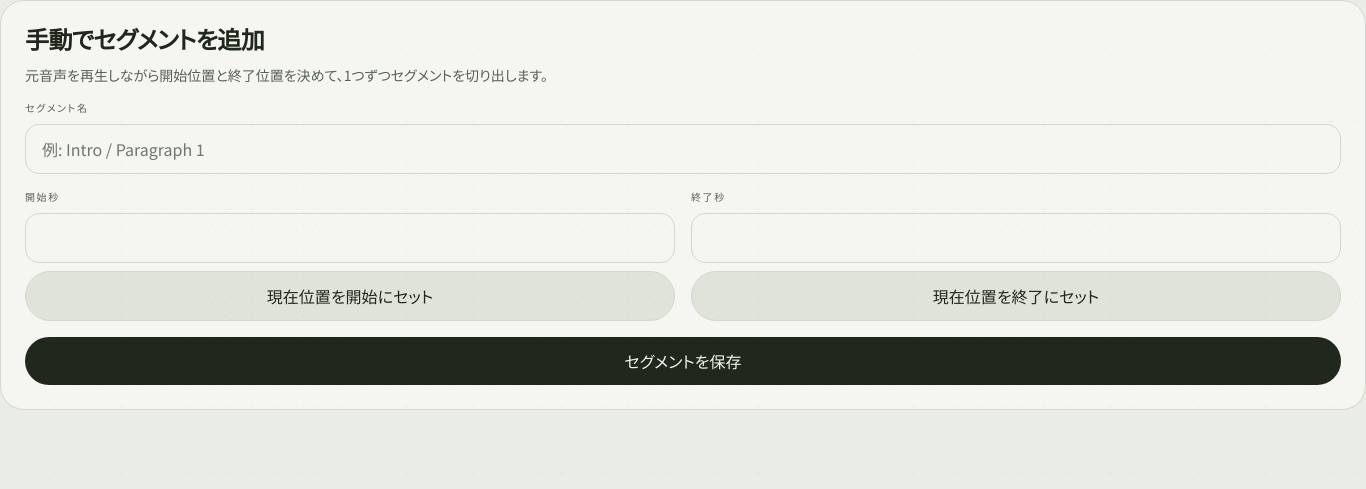
Test: ManualSegmentForm › requires a title before allowing a save attempt
This screenshot has width=1366, height=489.
In the number field labelled "開始秒": coordinates (350, 238) x1=25 y1=213 x2=675 y2=263, type "1.23"
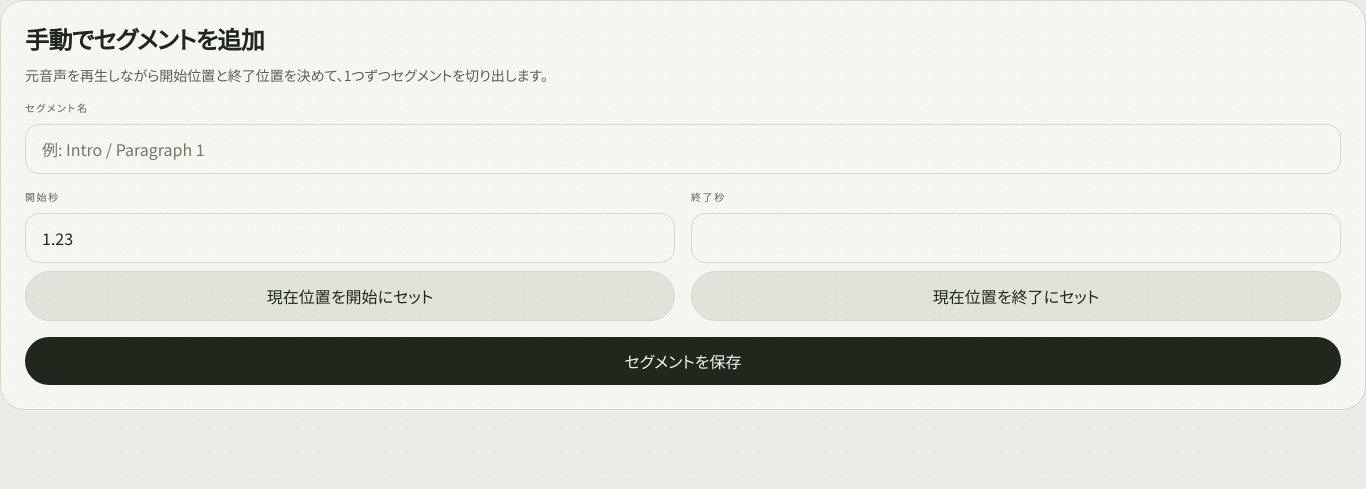
In the number field labelled "終了秒": coordinates (1016, 238) x1=691 y1=213 x2=1341 y2=263, type "2.34"
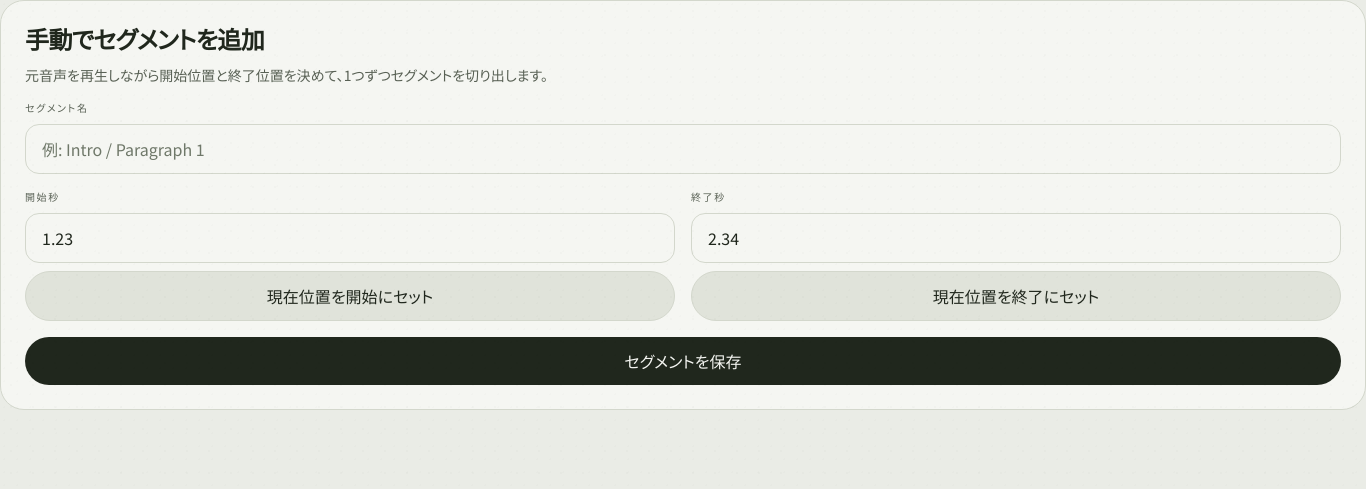
Click the button "セグメントを保存": coordinates (683, 361) x1=25 y1=337 x2=1341 y2=385
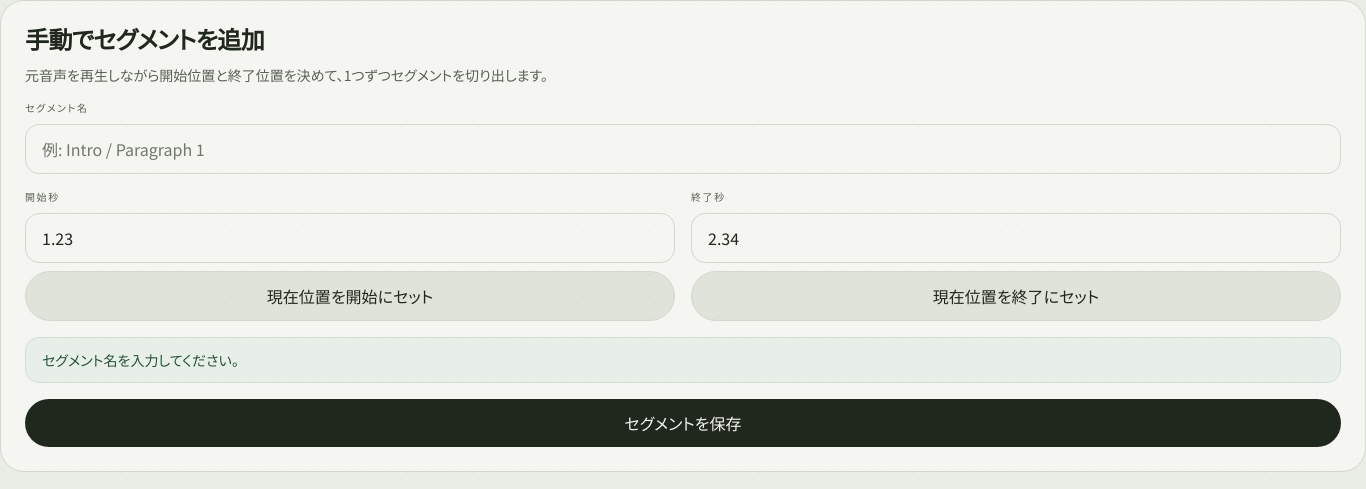
Now the text "セグメント名を入力してください。" is shown, box x1=25 y1=337 x2=1341 y2=383
